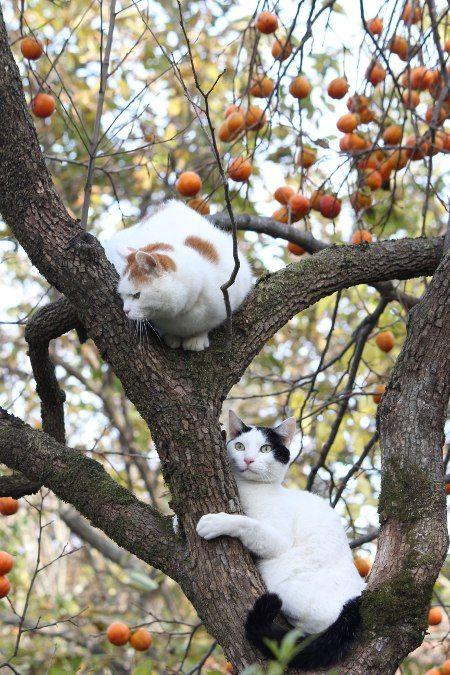kedo: (201, 407, 366, 667), (92, 205, 253, 352)
